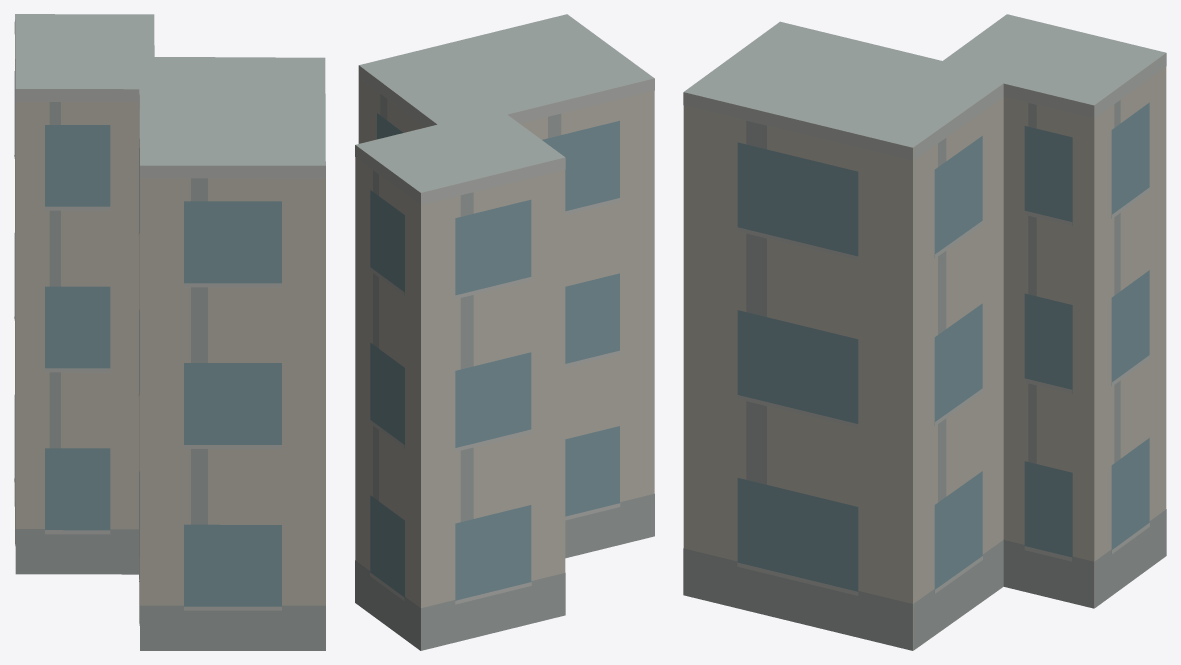
File: survey-upis-32821670.glb
3 views of the same model, side by side, from view 1: azimuth 30°, elevation 25°; view 2: azimuth 150°, elevation 25°; view 3: azimuth 270°, elevation 25° (orthographic). The views are drawn at different scales.
Visible parts, largest first — view 1: survey-upis-32821670.tmp; view 2: survey-upis-32821670.tmp; view 3: survey-upis-32821670.tmp.
Boxes of the visible parts, x1,y1,x2,y2 form: survey-upis-32821670.tmp: (14, 14, 325, 650); survey-upis-32821670.tmp: (355, 14, 654, 650); survey-upis-32821670.tmp: (683, 14, 1166, 650).
Size of the model in its own units: 5.23 by 9.15 by 7.97.
